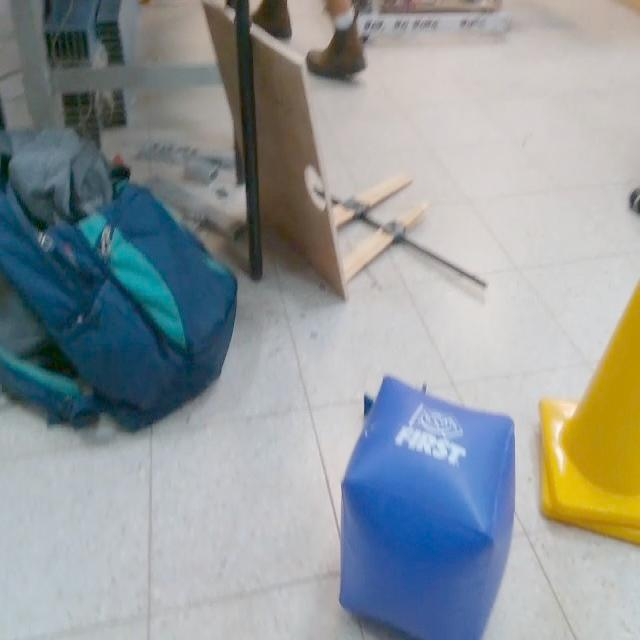cone: (539, 281, 640, 546)
cube: (342, 373, 515, 640)
